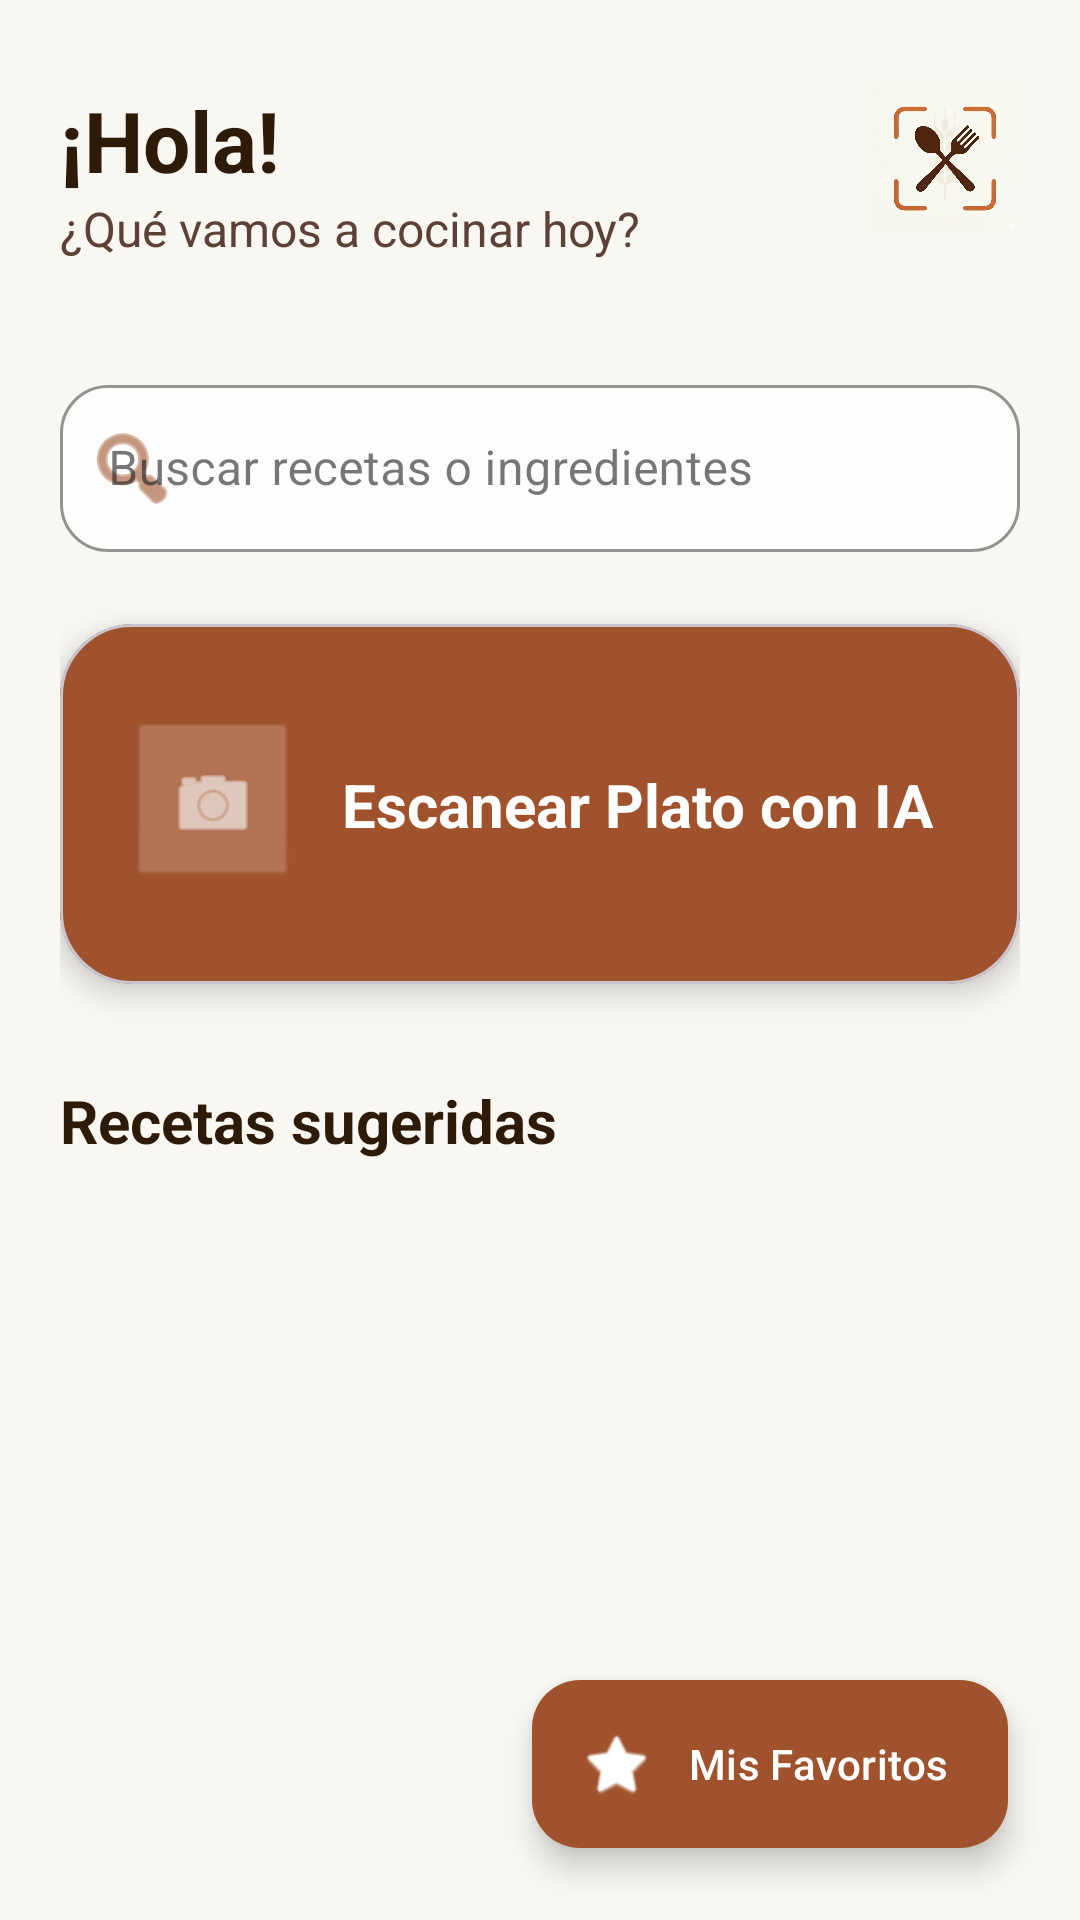

Screen size 1080px×1920px. Icon name, then its center in pixels as (x,y):
camera: (212,798)
